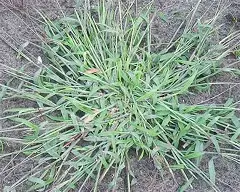weed: (0, 3, 239, 190)
